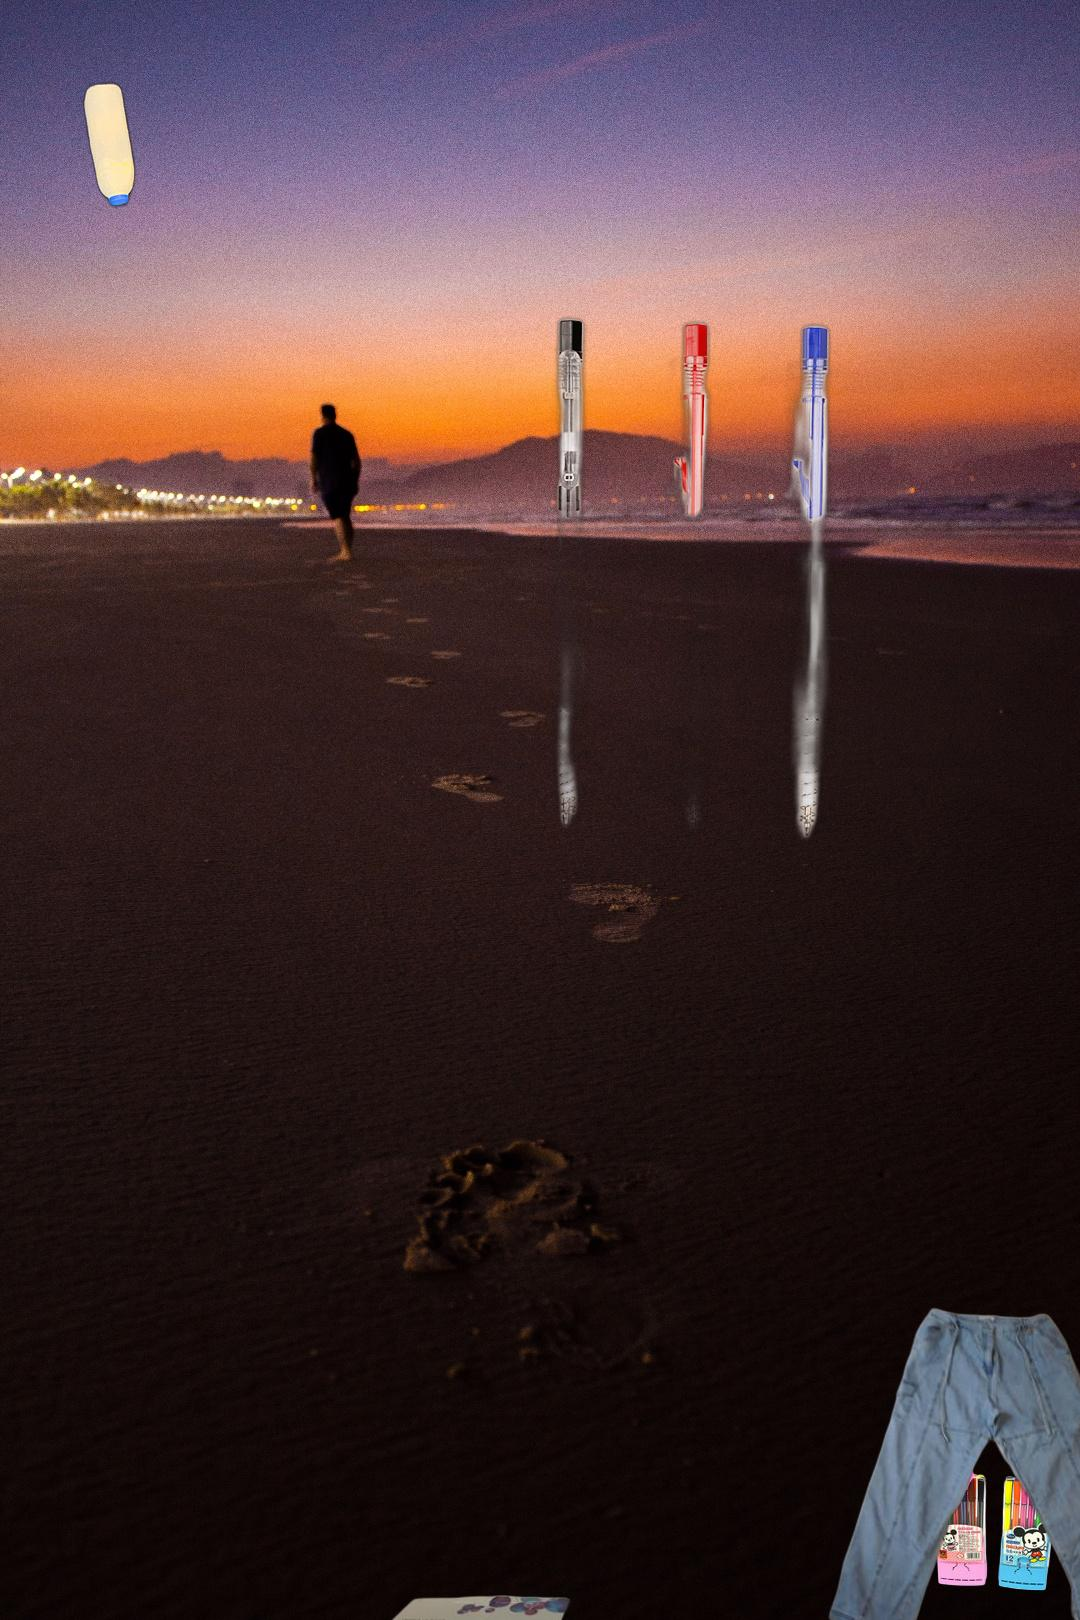clothes: (826, 1304, 1080, 1620)
glass: (978, 489, 1080, 683)
paper: (365, 1591, 575, 1620)
penholder: (337, 312, 1060, 938), (928, 1454, 1061, 1593)
plastic-bottles: (80, 77, 140, 212)
